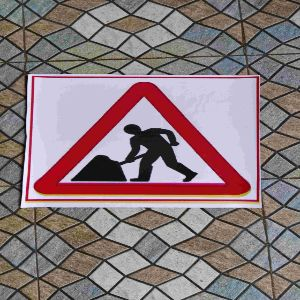men at work: (28, 75, 262, 207)
